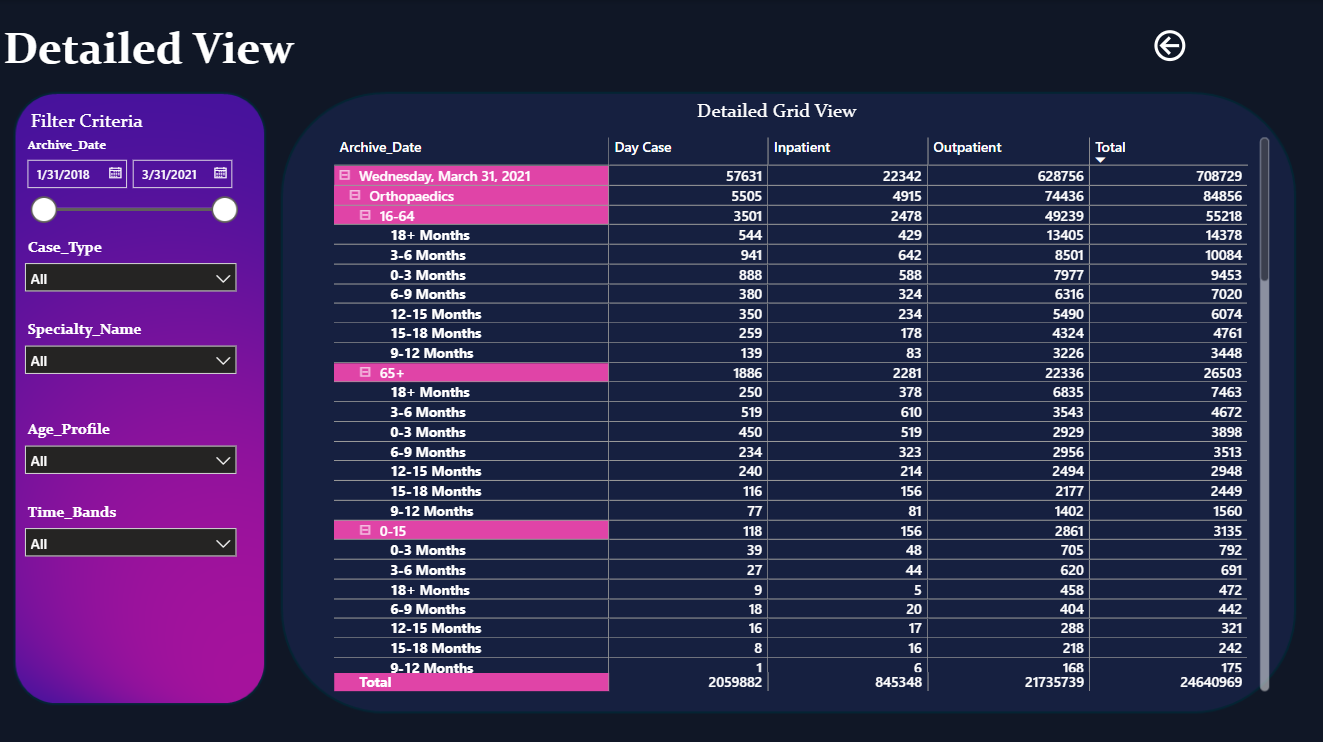

The dashboard page shown, as its layout file describes it:
{"tool":"powerbi","page":{"name":"Detail","canvas":[1280,720],"ordinal":1},"visuals":[{"type":"slicer","fields":{"Values":["All_Data.Archive_Date"]},"box":[16,128,224,96],"z":0},{"type":"slicer","fields":{"Values":["All_Data.Case_Type"]},"box":[16,224,224,64],"z":1000},{"type":"textbox","box":[0,16,320,96],"z":2000},{"type":"slicer","fields":{"Values":["All_Data.Specialty_Name"]},"box":[16,304,224,80],"z":3000},{"type":"slicer","fields":{"Values":["All_Data.Age_Profile"]},"box":[16,400,224,80],"z":4000},{"type":"slicer","fields":{"Values":["All_Data.Time_Bands"]},"box":[16,480,224,80],"z":5000},{"type":"pivotTable","fields":{"Rows":["All_Data.Archive_Date","All_Data.Specialty_Name","All_Data.Age_Profile","All_Data.Time_Bands"],"Values":["Sum(All_Data.Total)"],"Columns":["All_Data.Case_Type"]},"box":[319.7,127.9,912.1,544.1],"z":6000},{"type":"textbox","box":[603.2,90.5,296.8,42.2],"z":7000},{"type":"textbox","box":[26.5,100.1,133.9,32.6],"z":8000},{"type":"actionButton","box":[1111.1,24.1,100.1,39.8],"z":9000}]}

Visuals, with their boxes in screenshot pixels (x1, y1, x2, y2), scaled from the page's 1280x720 canvas onto the 1323x742 screenshot:
slicer - All_Data.Archive_Date: 17,132,248,231
slicer - All_Data.Case_Type: 17,231,248,297
textbox: 0,16,331,115
slicer - All_Data.Specialty_Name: 17,313,248,396
slicer - All_Data.Age_Profile: 17,412,248,495
slicer - All_Data.Time_Bands: 17,495,248,577
pivotTable - All_Data.Archive_Date x All_Data.Specialty_Name: 330,132,1273,693
textbox: 623,93,930,137
textbox: 27,103,166,137
actionButton: 1148,25,1252,66
